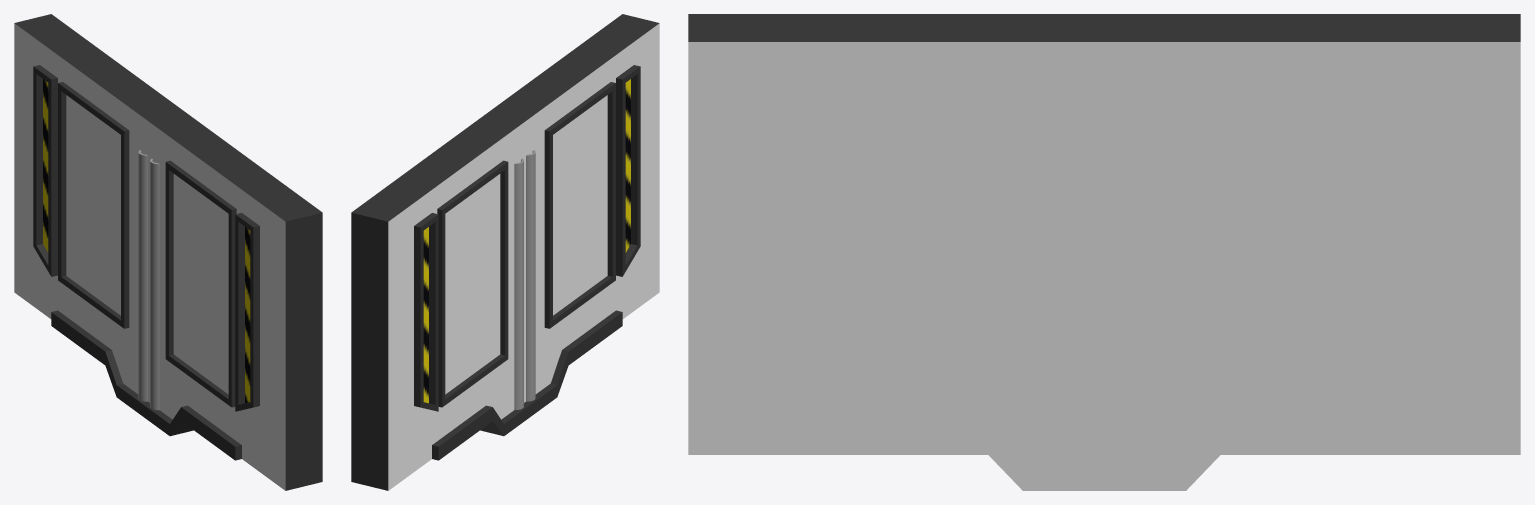
File: F_DoorTop_01.fbx
The picture shows the model from 3 angles, left to right: view 1: azimuth 30°, elevation 25°; view 2: azimuth 150°, elevation 25°; view 3: azimuth 270°, elevation 25°; orthographic projection. The views are drawn at different scales.
Visible parts, largest first — view 1: F_DoorTop_01; view 2: F_DoorTop_01; view 3: F_DoorTop_01.
Part boxes in pixels (x1,y1,x2,y2): F_DoorTop_01: (14, 14, 322, 490); F_DoorTop_01: (351, 14, 659, 490); F_DoorTop_01: (688, 14, 1520, 490).
Bounding box in the file's own units: 22.18 × 142 × 238.
Materials: 1 (1 with a texture image).
